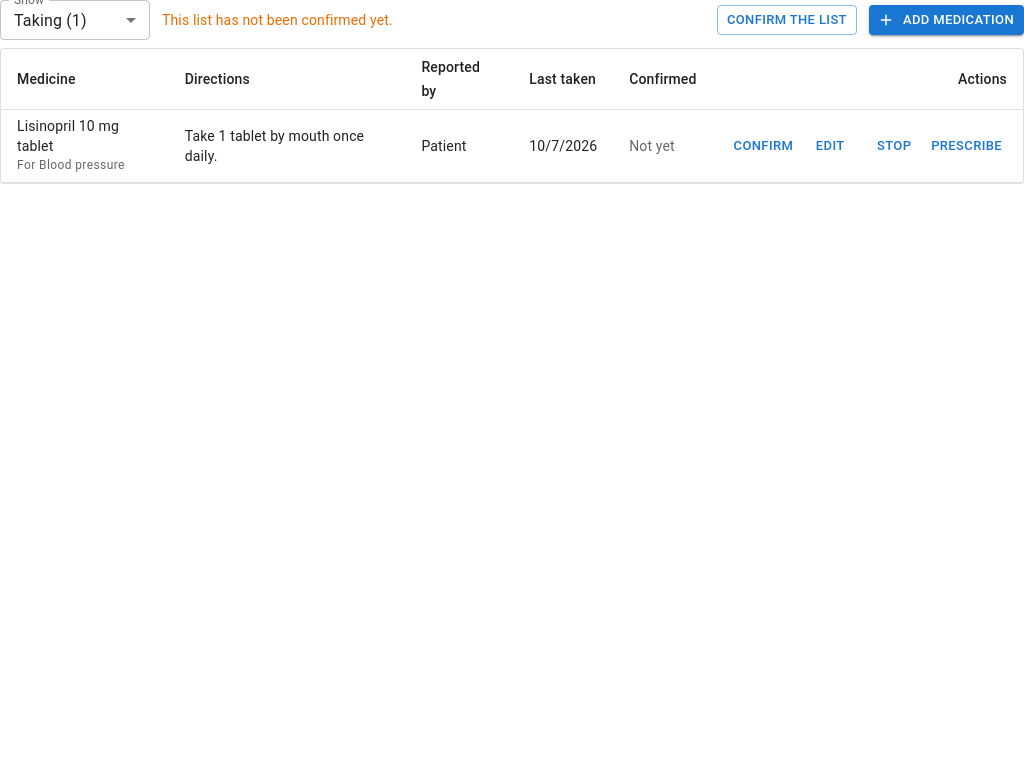
Test: the server's refusal (already on the list) is shown in the form
Expected: the row with test id "home-med-row-21" is shown, left=1, top=110, right=1023, bottom=182
Click the button with test id "home-med-add": (946, 20) left=869, top=5, right=1023, bottom=35
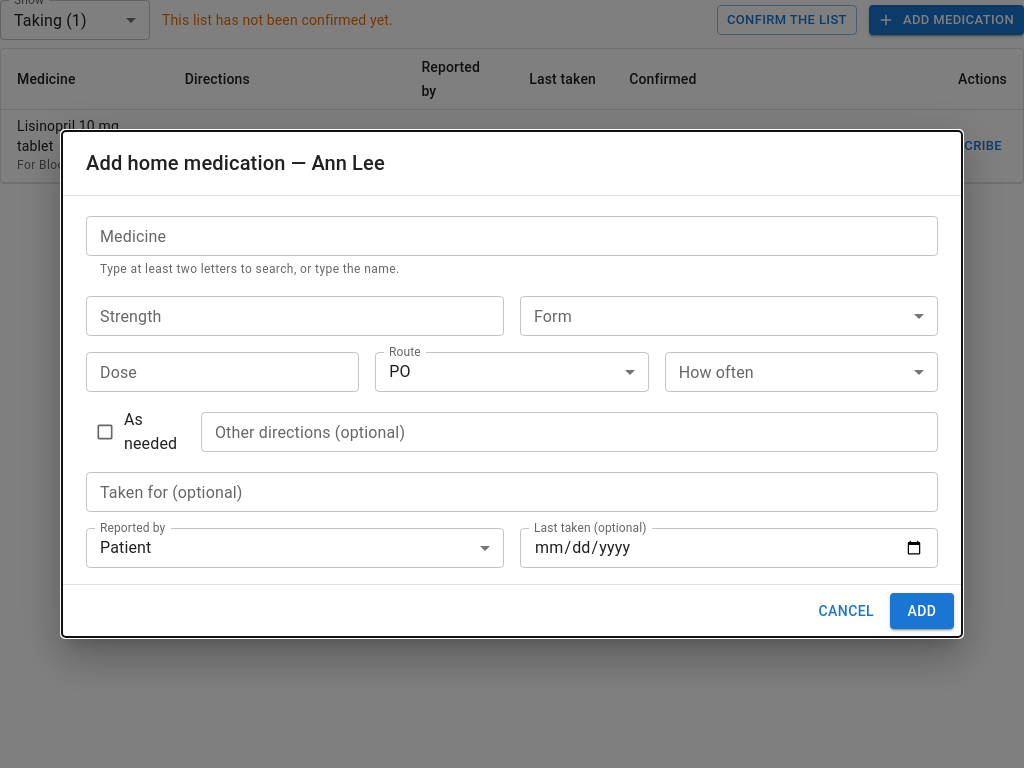
In the dropdown with test id "home-med-drug": (510, 236) left=92, top=222, right=929, bottom=250, type "Lisinopril"
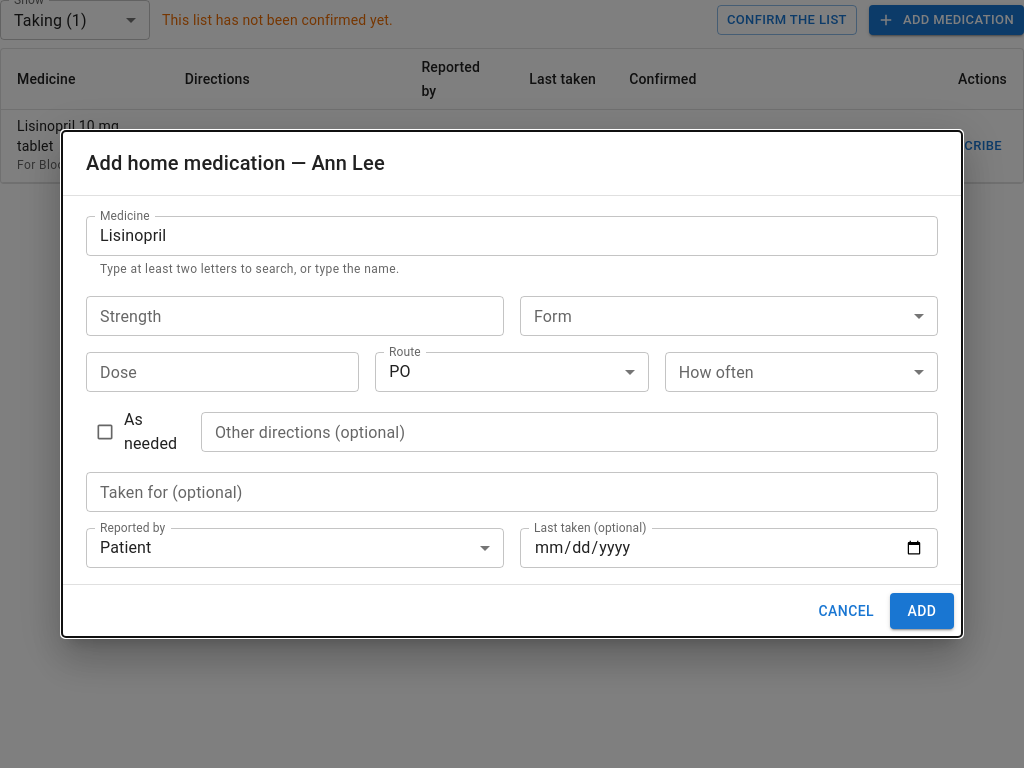
Click the button with test id "home-med-save": (922, 611) left=890, top=593, right=954, bottom=629
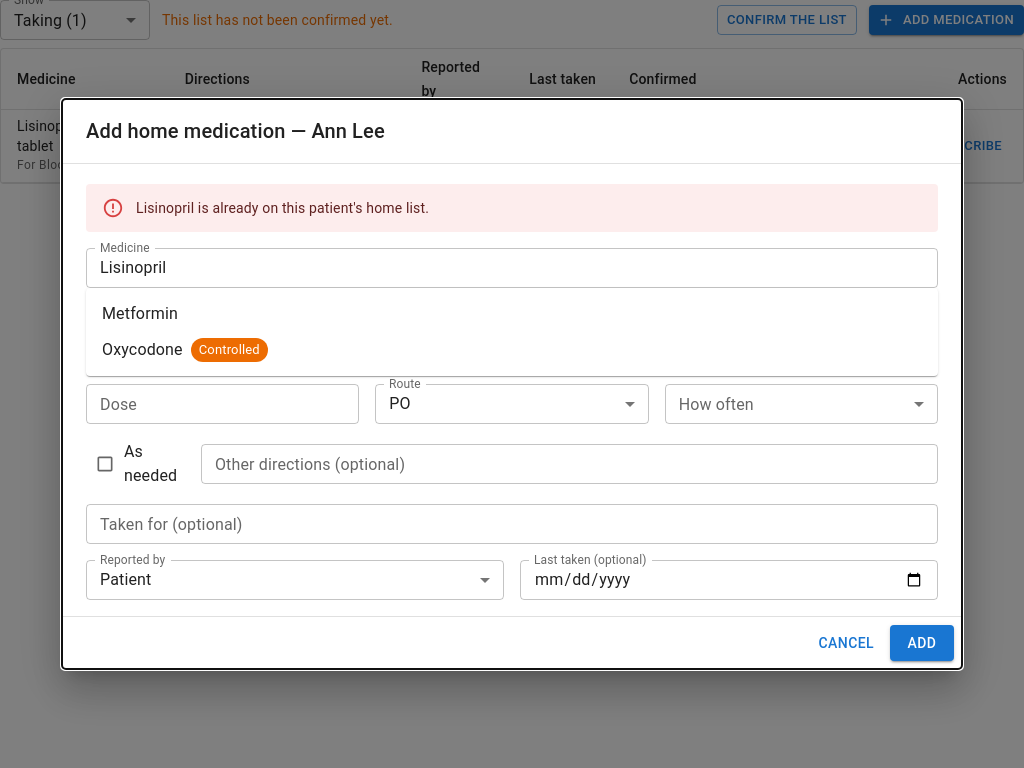
Expected: the message with test id "home-med-error" shows "already on this patient's home list", left=136, top=200, right=429, bottom=216
